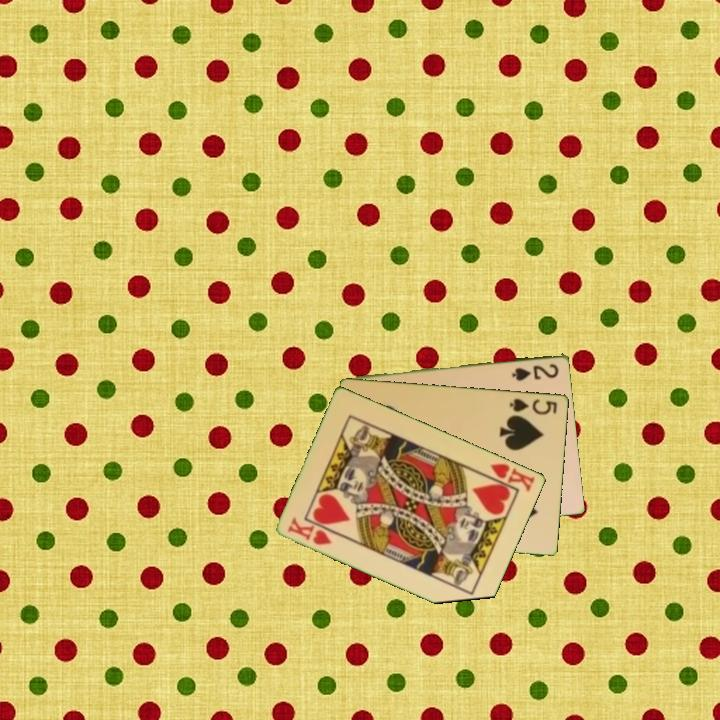2s: (509, 360, 562, 383)
5s: (506, 394, 560, 417)
Kh: (480, 459, 538, 495), (284, 514, 335, 548)
